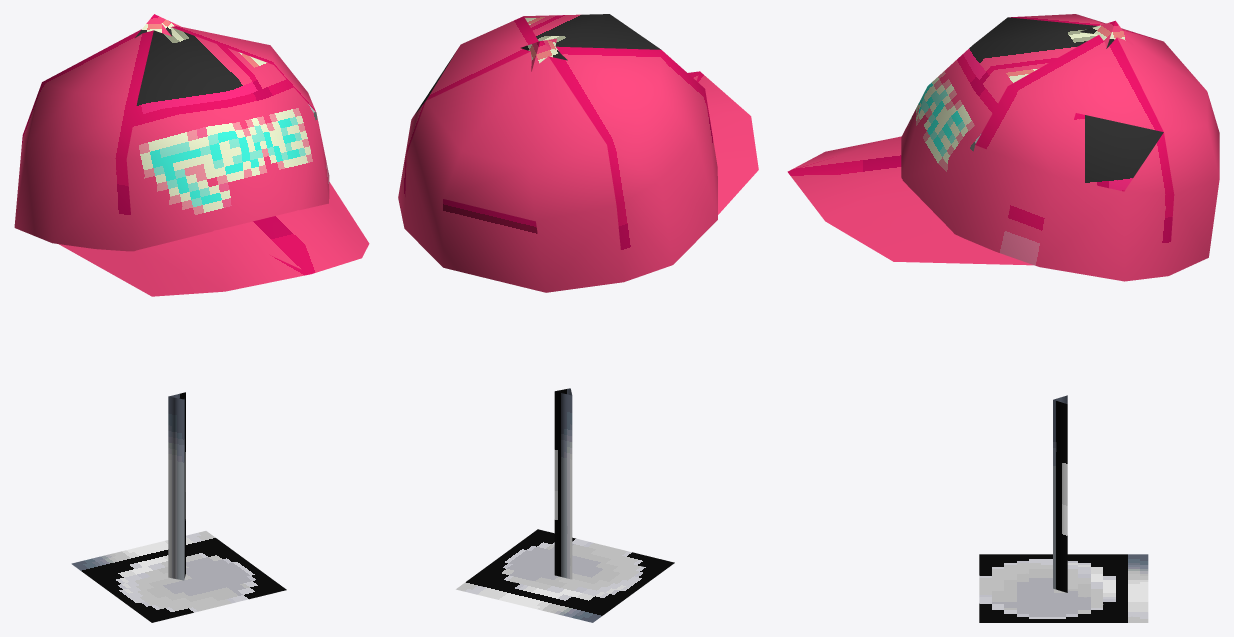
3 views of the same model, side by side, from view 1: azimuth 30°, elevation 25°; view 2: azimuth 150°, elevation 25°; view 3: azimuth 270°, elevation 25° (orthographic). The views are drawn at different scales.
Visible parts, largest first — view 1: 2934head084_c; view 2: 2934head084_c; view 3: 2934head084_c.
Part boxes in pixels (x1,y1,x2,y2): 2934head084_c: [14, 14, 369, 622]; 2934head084_c: [398, 14, 758, 622]; 2934head084_c: [787, 14, 1219, 622].
Size of the model in its own units: 0.948 by 1.79 by 1.23.
2 materials, 2 textured.
